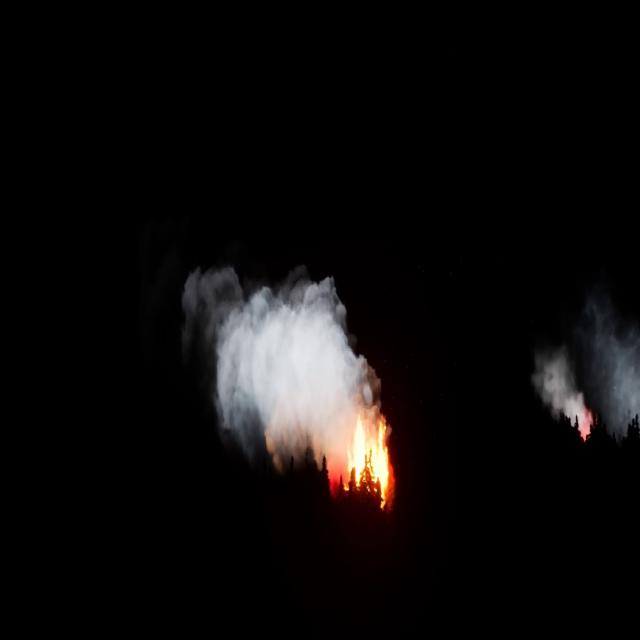fire: (339, 412, 395, 512), (576, 414, 596, 439)
smoke: (181, 263, 375, 476), (528, 301, 640, 435)
